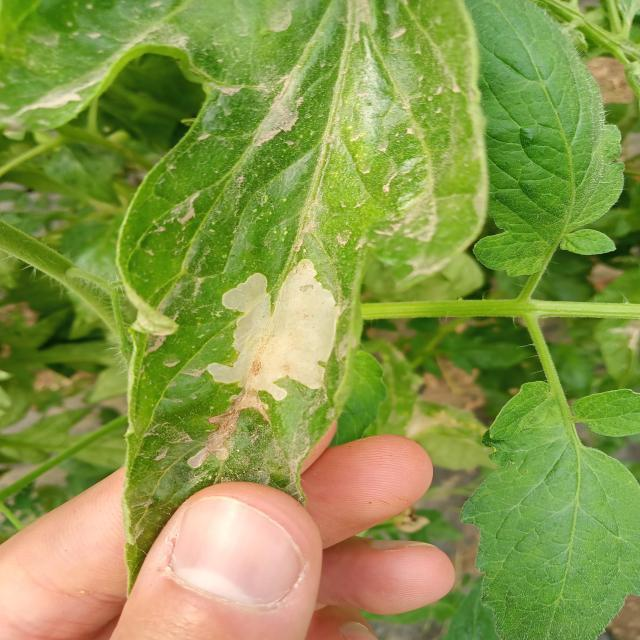Tuta absoluta: (203, 244, 349, 413), (174, 384, 278, 480)
